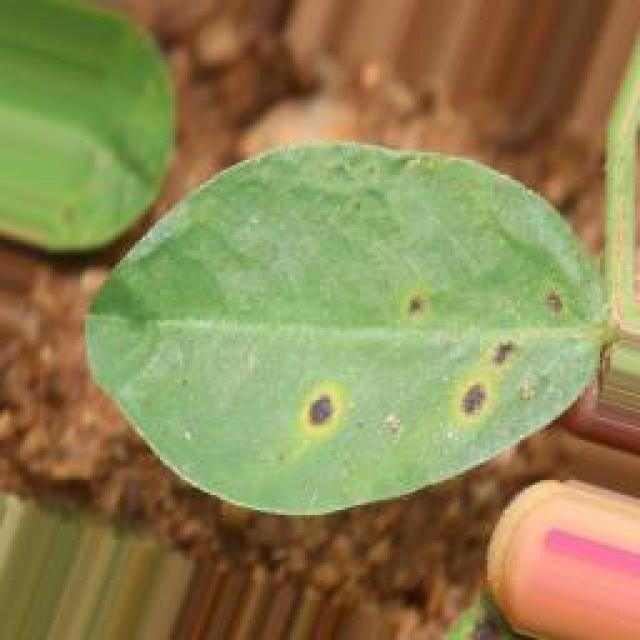Sigatoka: (434, 323, 530, 429), (282, 357, 367, 467), (366, 280, 452, 359), (535, 278, 599, 354)
